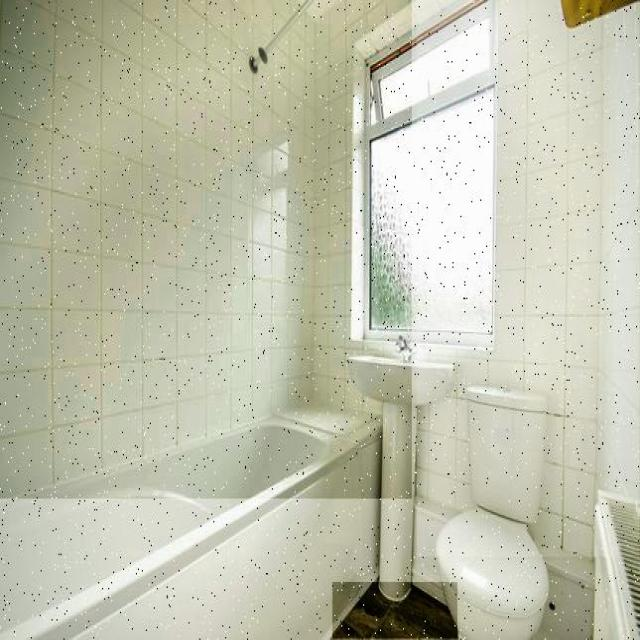Wall: (0, 0, 412, 499), (417, 0, 639, 557), (333, 583, 457, 639)
